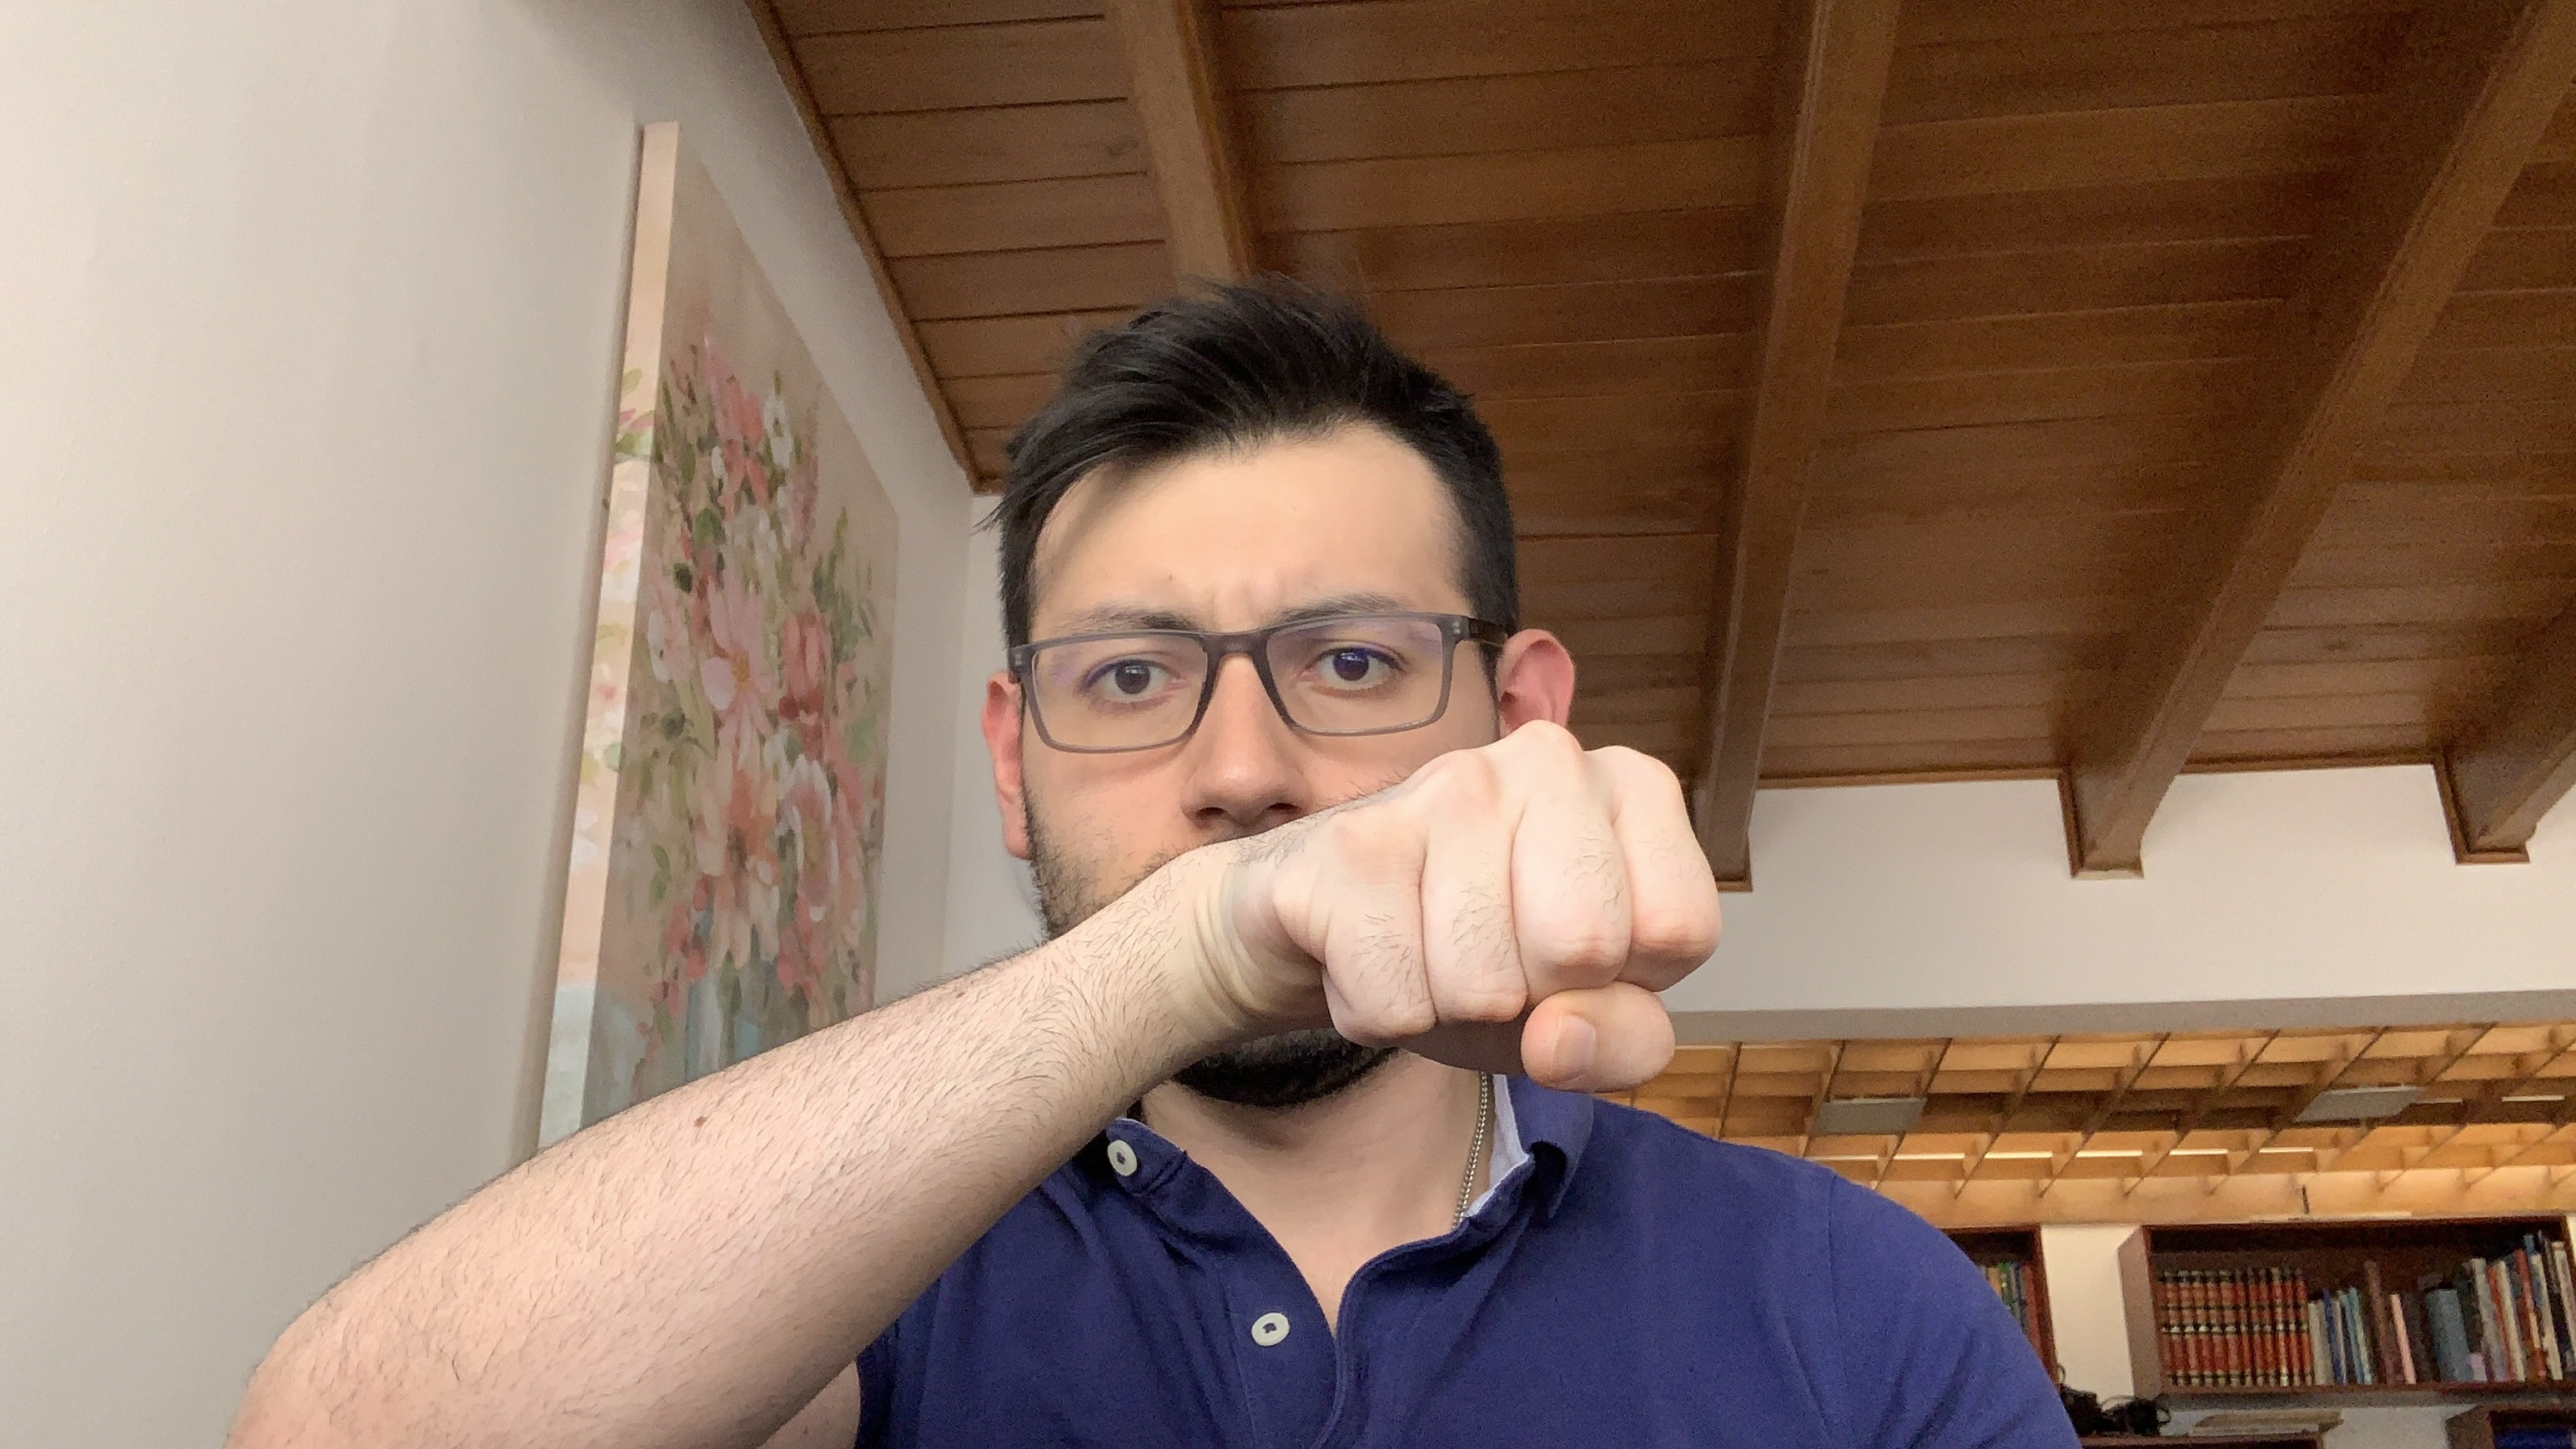Yes: (1168, 711, 1739, 1106)
